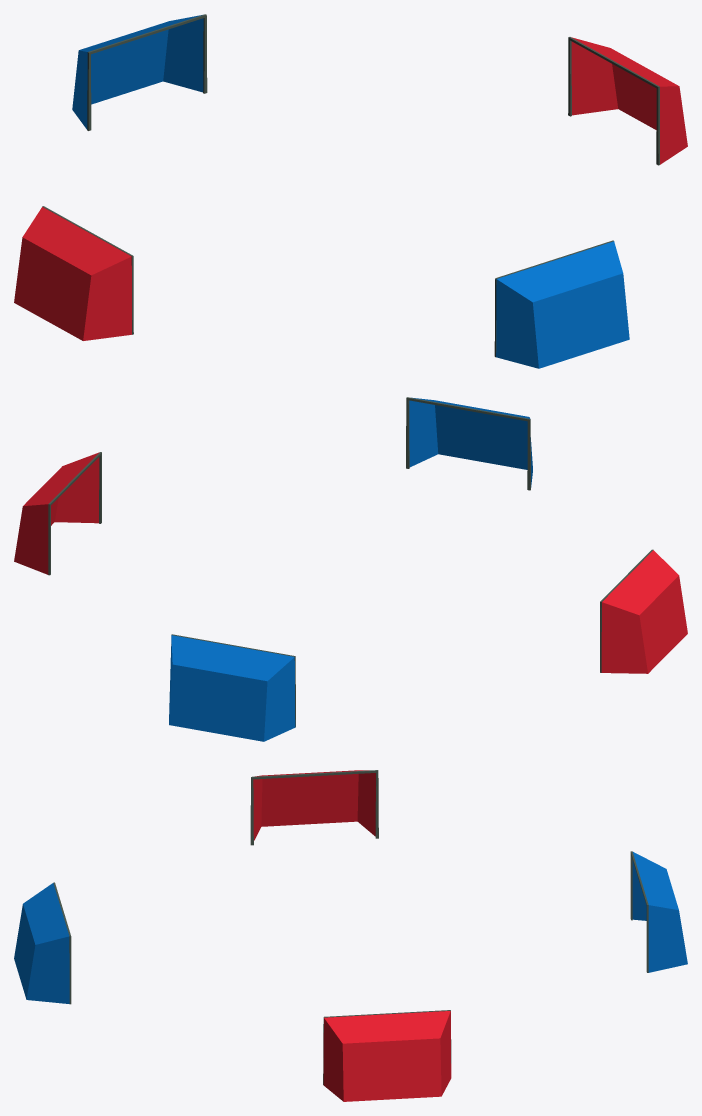
The model's file is SpinnerSoccer_Posts.fbx.
The picture shows the model from 3 angles, top to bottom: view 1: azimuth 30°, elevation 25°; view 2: azimuth 150°, elevation 25°; view 3: azimuth 270°, elevation 25°; orthographic projection. The views are drawn at different scales.
Parts seen in each view (by area): view 1: Post4, Post1, Post2, Post3; view 2: Post2, Post1, Post4, Post3; view 3: Post3, Post1, Post4, Post2.
Boxes of the visible parts, x1=… form: Post4: x1=494, y1=240, x2=629, y2=368; Post1: x1=14, y1=206, x2=133, y2=340; Post2: x1=72, y1=14, x2=207, y2=130; Post3: x1=568, y1=37, x2=687, y2=165; Post2: x1=169, y1=634, x2=295, y2=741; Post1: x1=600, y1=549, x2=687, y2=673; Post4: x1=406, y1=397, x2=532, y2=490; Post3: x1=14, y1=452, x2=101, y2=575; Post3: x1=323, y1=1010, x2=451, y2=1101; Post1: x1=250, y1=770, x2=378, y2=845; Post4: x1=14, y1=882, x2=71, y2=1004; Post2: x1=630, y1=851, x2=687, y2=972.
Bounding box in the file's own units: 8.26 × 0.929 × 8.37.
